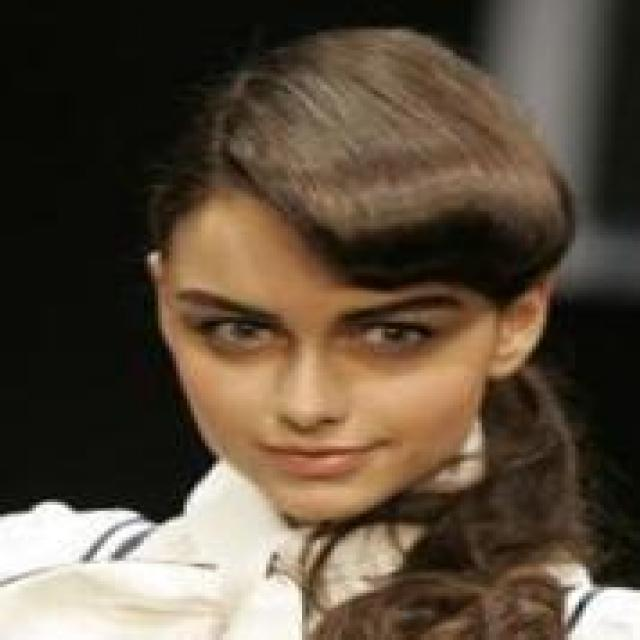nomask: (137, 26, 611, 505)
